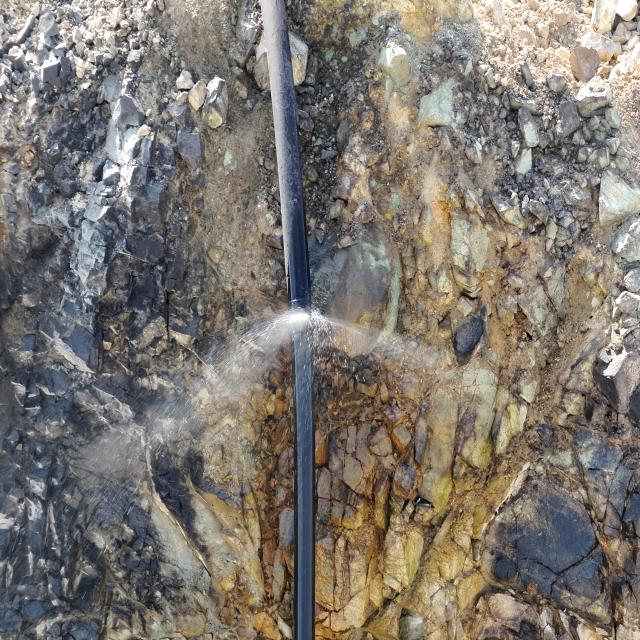leak: (23, 287, 464, 484)
